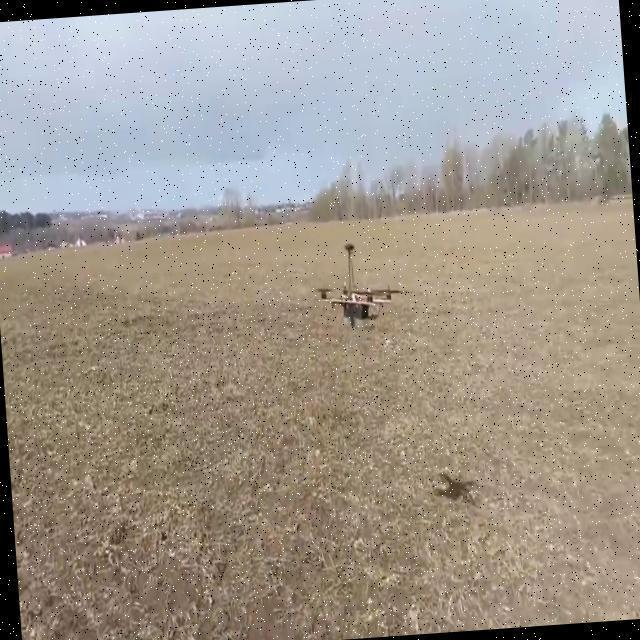Drons: (310, 223, 408, 340)
